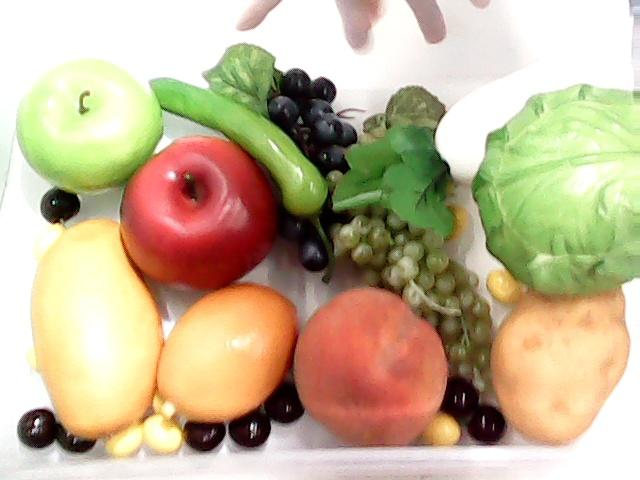apple: (112, 129, 288, 293), (3, 41, 168, 197)
cabbage: (472, 79, 640, 302)
grape: (344, 193, 500, 382), (273, 62, 375, 270)
lemon: (152, 274, 310, 436)
mango: (28, 215, 156, 437)
peach: (288, 284, 457, 462)
pepper: (142, 57, 330, 216)
potato: (490, 279, 630, 449)
radish: (331, 51, 639, 238)
